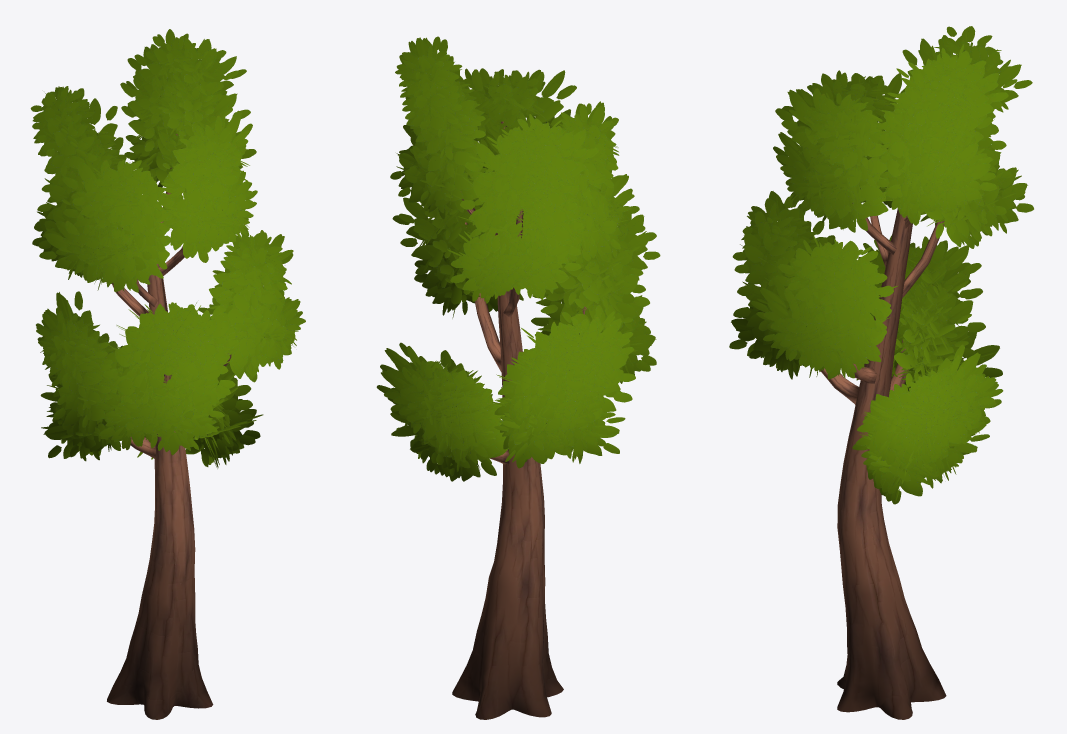
The model's file is tree-teaching-3-mature.glb.
The picture shows the model from 3 angles, left to right: view 1: azimuth 30°, elevation 25°; view 2: azimuth 150°, elevation 25°; view 3: azimuth 270°, elevation 25°; orthographic projection. The views are drawn at different scales.
Visible parts, largest first — view 1: CommonTree_3; view 2: CommonTree_3; view 3: CommonTree_3.
Part boxes in pixels (x1,y1,x2,y2): CommonTree_3: (30,29,305,719); CommonTree_3: (376,36,660,719); CommonTree_3: (729,26,1033,719).
Size of the model in its own units: 2.61 by 6.05 by 2.72.
2 materials, 2 textured.
